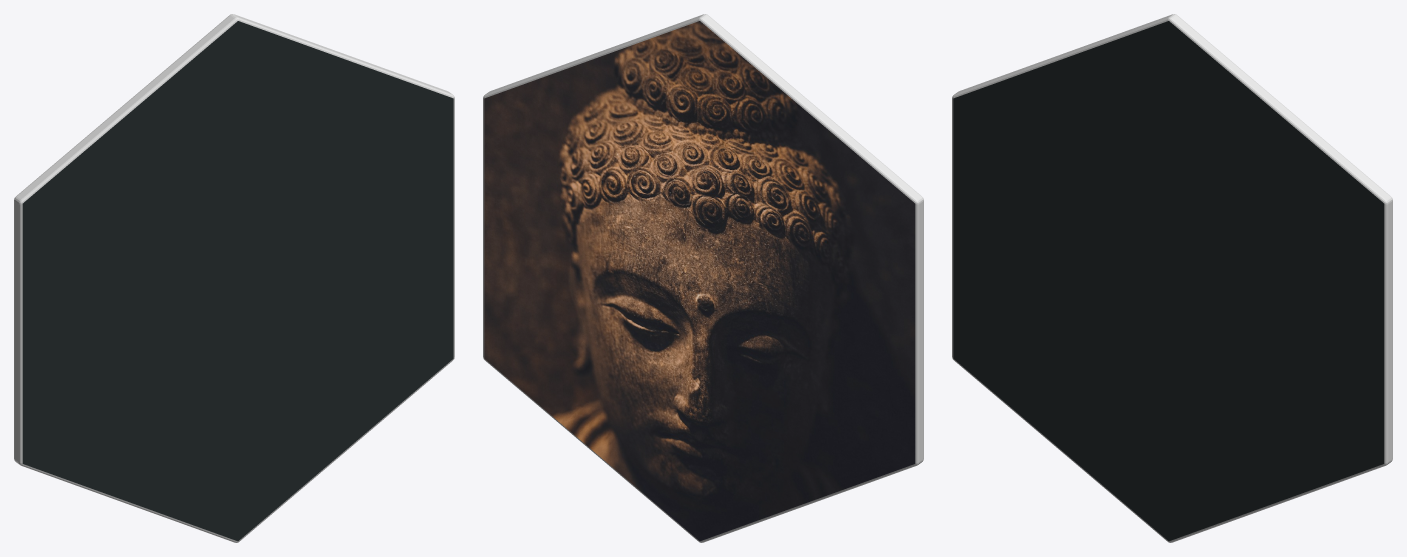
File: hex_tile_4.glb
3 renders of one model, left to right at view 1: azimuth 30°, elevation 25°; view 2: azimuth 150°, elevation 25°; view 3: azimuth 330°, elevation 25°, orthographic.
Visible parts, largest first — view 1: Cylinder; view 2: Cylinder; view 3: Cylinder.
Part boxes in pixels (bbox=[...]): Cylinder: bbox=[14, 14, 454, 542]; Cylinder: bbox=[483, 14, 923, 542]; Cylinder: bbox=[952, 14, 1392, 542].
Bounding box in the file's own units: 1.73 × 1.99 × 0.05.
Materials: 3 (1 with a texture image).
